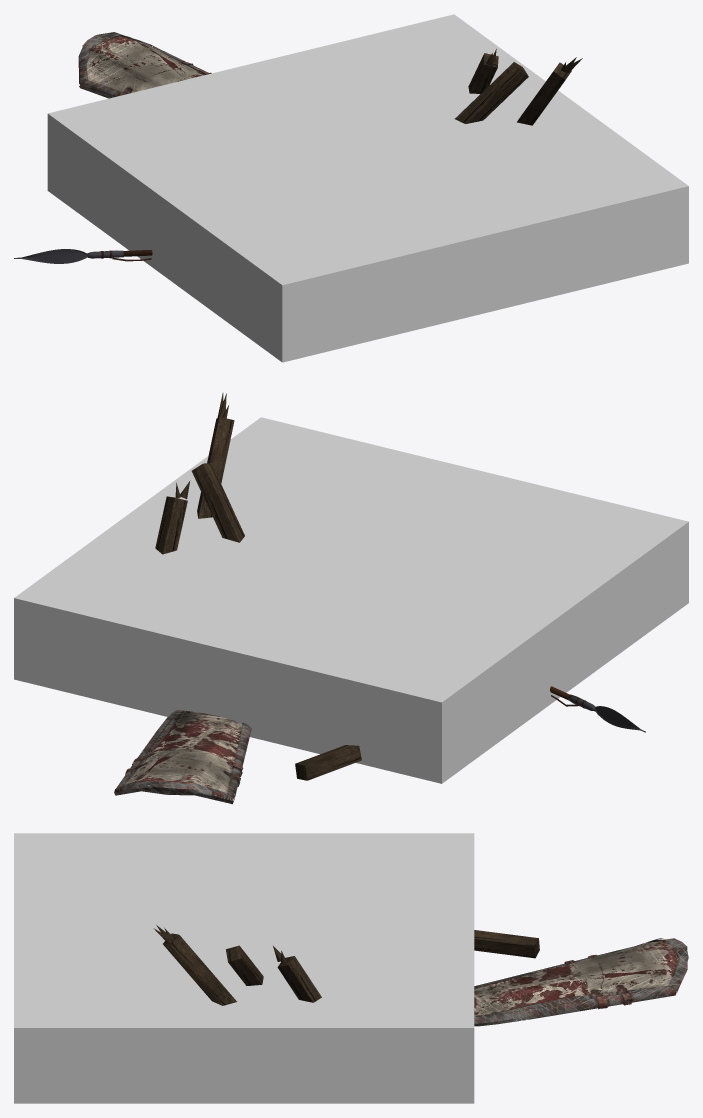
File: weapon_rack_broken.glb
3 views of the same model, one above another, from view 1: azimuth 30°, elevation 25°; view 2: azimuth 150°, elevation 25°; view 3: azimuth 270°, elevation 25° (orthographic). The views are drawn at different scales.
Visible parts, largest first — view 1: col_click, loot_shield, rack, loot_spear; view 2: col_click, loot_shield, rack, loot_spear; view 3: col_click, loot_shield, rack.
Part boxes in pixels (<box>): col_click: <box>47,14,688,362</box>; loot_shield: <box>78,32,211,98</box>; rack: <box>455,49,582,125</box>; loot_spear: <box>14,249,152,263</box>; col_click: <box>14,417,688,783</box>; loot_shield: <box>114,710,251,804</box>; rack: <box>155,393,361,780</box>; loot_spear: <box>550,686,645,732</box>; col_click: <box>14,833,474,1103</box>; loot_shield: <box>474,938,688,1026</box>; rack: <box>153,925,539,1005</box>.
Bounding box in the file's own units: 2.82 × 0.8738 × 3.22.
Materials: 10 (10 with a texture image).
